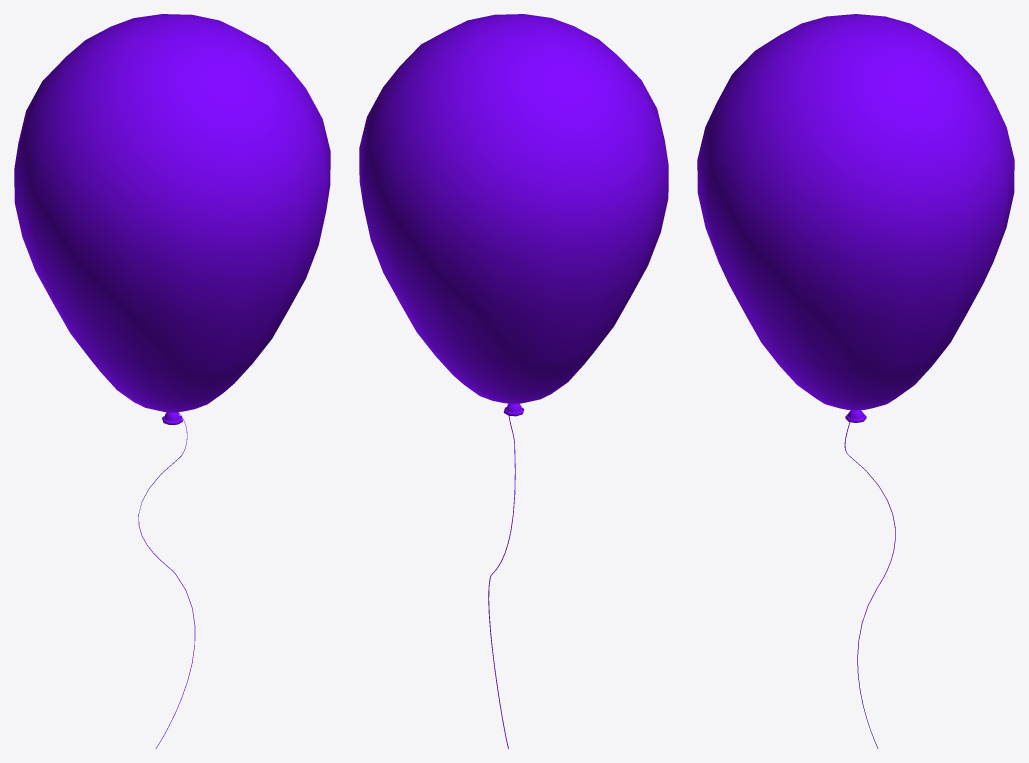
Rendered from purple_balloon.fbx.
The picture shows the model from 3 angles, left to right: view 1: azimuth 30°, elevation 25°; view 2: azimuth 150°, elevation 25°; view 3: azimuth 270°, elevation 25°; orthographic projection. The views are drawn at different scales.
Parts seen in each view (by area): view 1: Balloon.007; view 2: Balloon.007; view 3: Balloon.007.
Boxes of the visible parts, box(x1,y1,x2,y2) form: Balloon.007: box(14, 14, 330, 748); Balloon.007: box(359, 14, 668, 748); Balloon.007: box(697, 14, 1014, 748).
Size of the model in its own units: 26.48 by 66.4 by 26.48.
